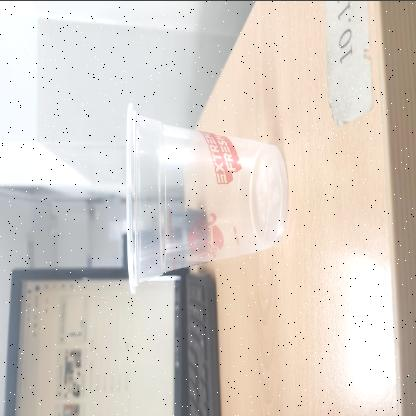Others: (124, 100, 288, 294)
